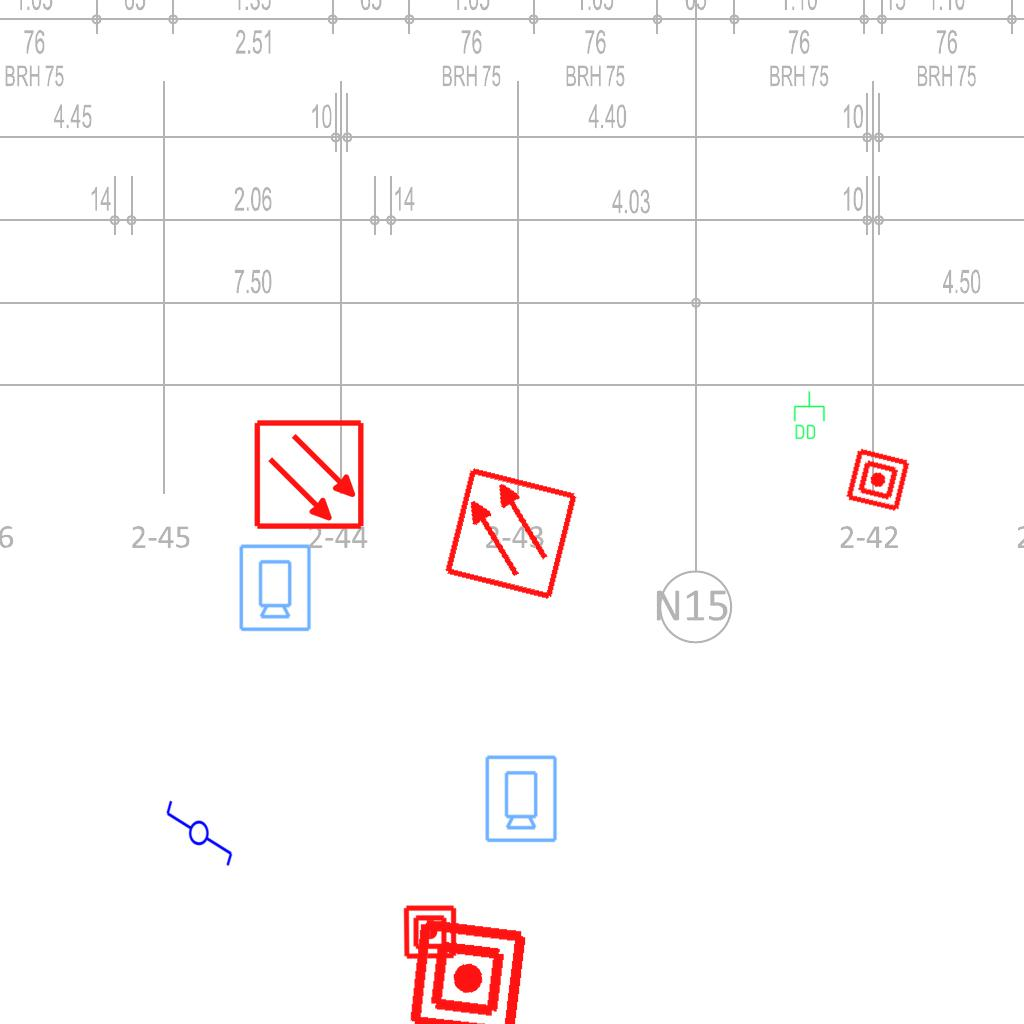Datenanschluss_zweifach: (792, 390, 826, 441)
KFO_Kamera_mit_Festobjektiv: (482, 753, 559, 844), (236, 542, 313, 633)
NAM-Nichtautomatischer_Melder: (404, 915, 531, 1024), (844, 446, 912, 514), (402, 904, 458, 960)
RMO_Rauchmelder_optischer: (442, 465, 579, 602), (253, 418, 366, 531)
Wechselschalter: (164, 790, 236, 868)
